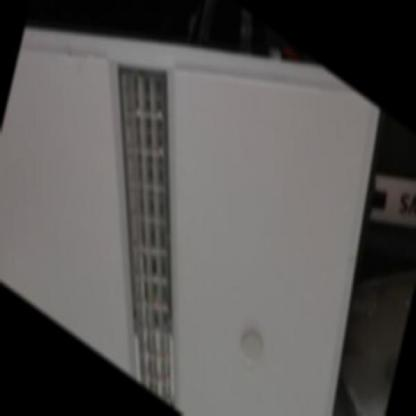light_off: (42, 12, 250, 413)
